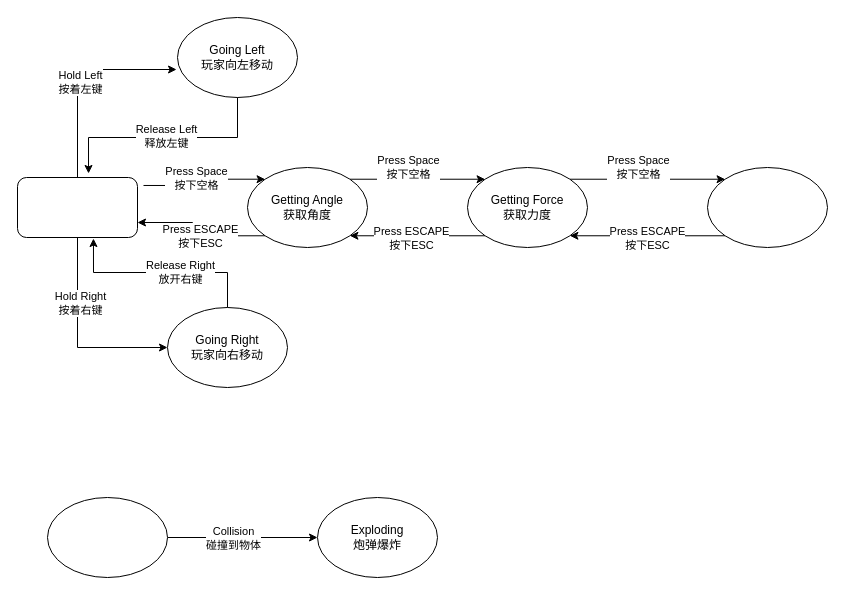
Some shapes in this 845 by 595 pixel diagram are drawn without their labels. The shapes that lost their labels are listed below. From the top down, each one's centre as x and y in pixels, then its label:
At pixel 77 207: "Idle 玩家静止".
At pixel 767 207: "Shooting 发射炮弹".
At pixel 107 537: "Flying 炮弹飞行".
